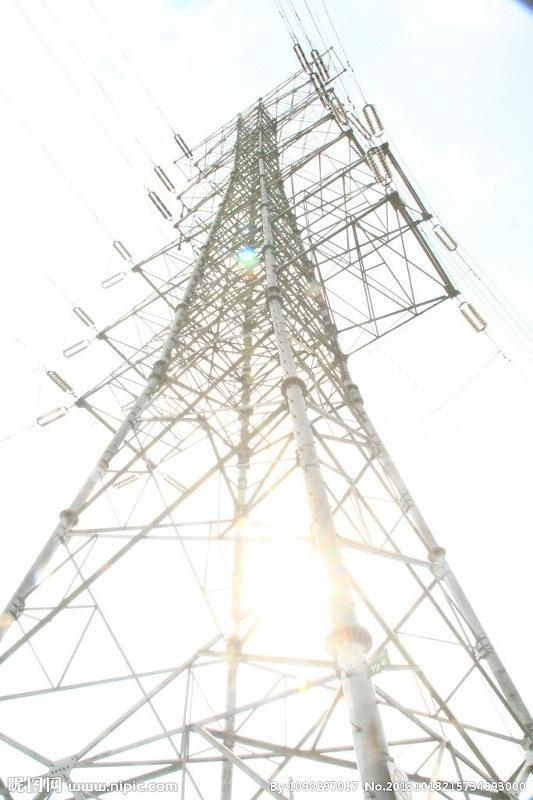power_tower: (39, 70, 516, 735)
